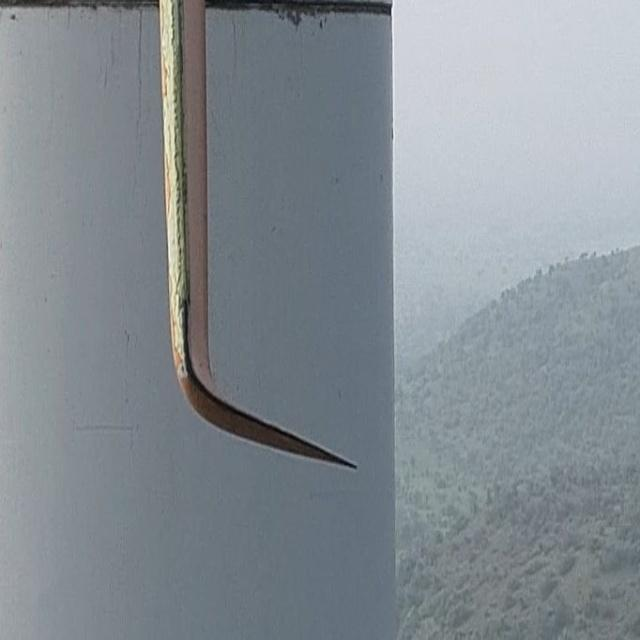EROSION: (180, 277, 335, 472)
